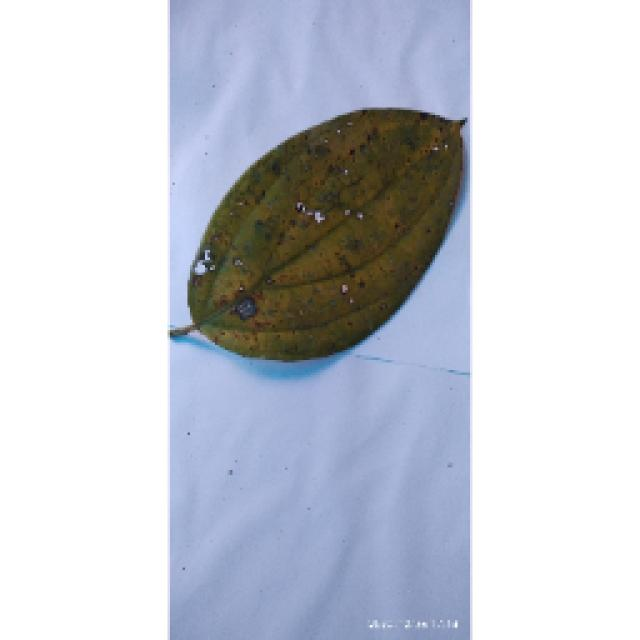slow-decline: (160, 95, 472, 367)
